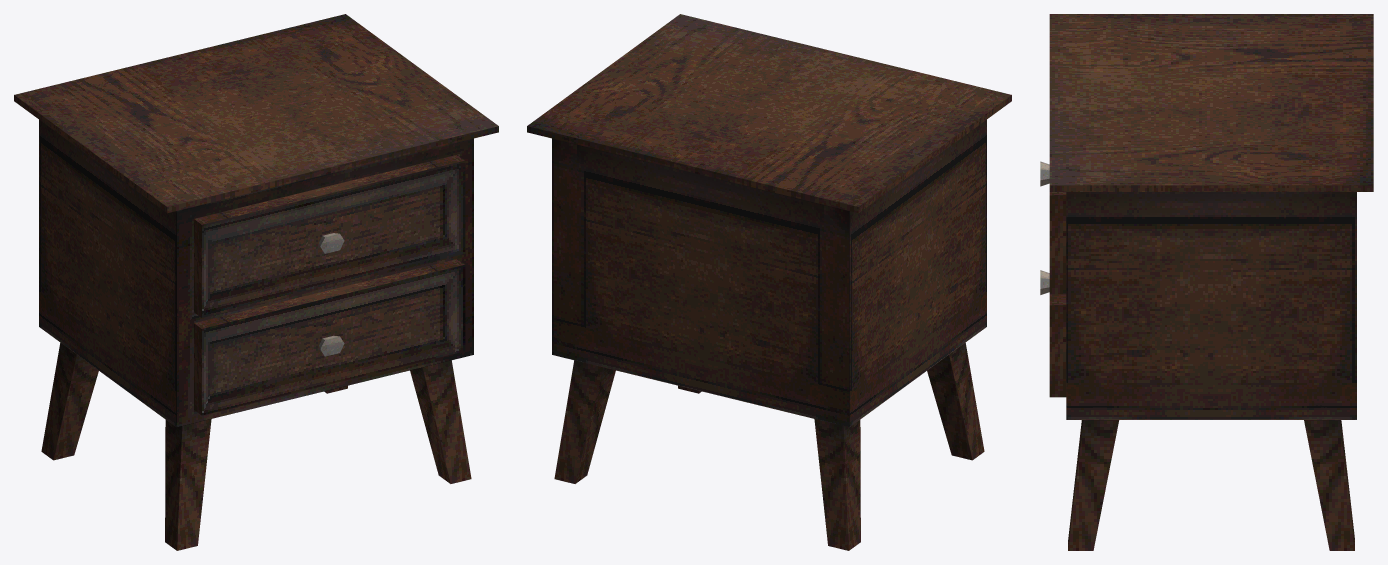
Rendered from NightStand_v2_sketchfab_100x.glb.
The picture shows the model from 3 angles, left to right: view 1: azimuth 30°, elevation 25°; view 2: azimuth 150°, elevation 25°; view 3: azimuth 270°, elevation 25°; orthographic projection. The views are drawn at different scales.
Visible parts, largest first — view 1: NightStand_100x; view 2: NightStand_100x; view 3: NightStand_100x.
Part boxes in pixels (x1,y1,x2,y2): NightStand_100x: (14,14,498,550); NightStand_100x: (527,14,1011,550); NightStand_100x: (1040,14,1373,550).
Bounding box in the file's own units: 55.77 × 57 × 45.89.
Materials: 1 (1 with a texture image).
